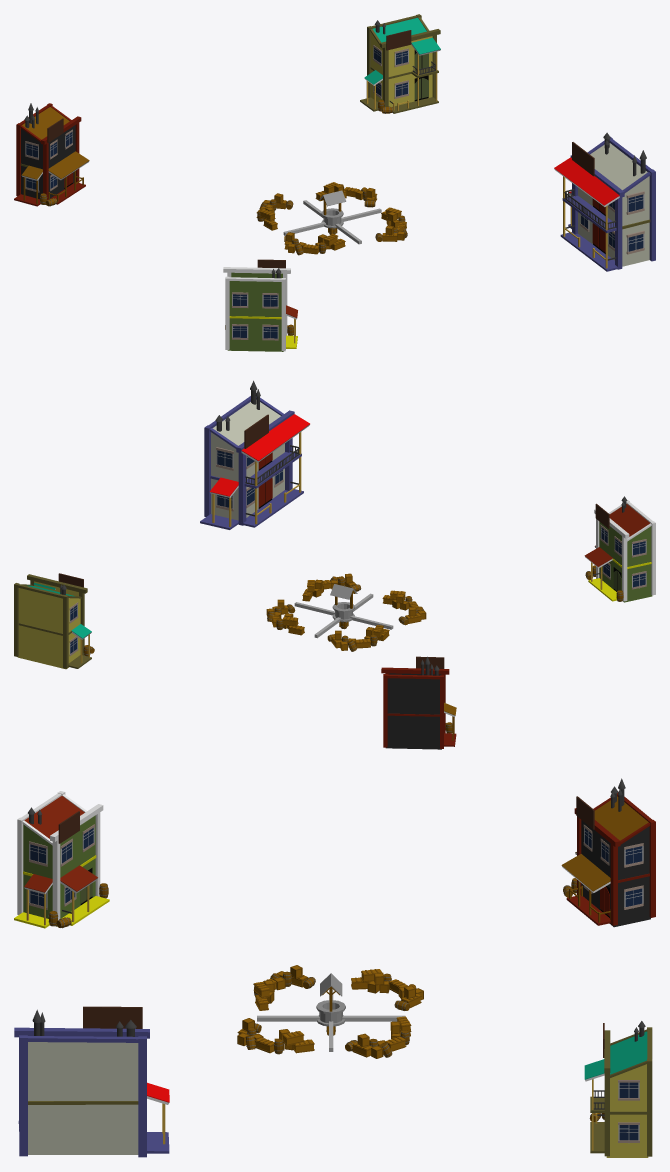
File: Buildings.fbx
The picture shows the model from 3 angles, top to bottom: view 1: azimuth 30°, elevation 25°; view 2: azimuth 150°, elevation 25°; view 3: azimuth 270°, elevation 25°; orthographic projection. The views are drawn at different scales.
Visible parts, largest first — view 1: polySurface365, polySurface508, polySurface222, polySurface633, pCylinder48, pCylinder51, polySurface208, pCylinder52, pCylinder50; view 2: polySurface365, polySurface508, polySurface222, polySurface633, pCylinder50, pCylinder48, pCylinder52, pCylinder51, polySurface208; view 3: polySurface365, polySurface633, polySurface222, polySurface508, pCylinder51, pCylinder50, pCylinder52, pCylinder48, polySurface208, pCube55.
Boxes of the visible parts, <box> form: polySurface365: <box>554,132,655,271</box>; polySurface508: <box>360,14,440,113</box>; polySurface222: <box>14,103,89,206</box>; polySurface633: <box>223,259,297,351</box>; pCylinder48: <box>284,232,345,255</box>; pCylinder51: <box>375,207,407,241</box>; polySurface208: <box>319,190,346,228</box>; pCylinder52: <box>315,182,377,207</box>; pCylinder50: <box>256,193,293,230</box>; polySurface365: <box>200,380,309,529</box>; polySurface508: <box>14,573,94,669</box>; polySurface222: <box>381,656,456,749</box>; polySurface633: <box>584,496,655,602</box>; pCylinder50: <box>327,625,389,651</box>; pCylinder48: <box>382,590,426,625</box>; pCylinder52: <box>266,599,304,635</box>; pCylinder51: <box>302,573,361,601</box>; polySurface208: <box>330,584,357,621</box>; polySurface365: <box>14,1006,169,1157</box>; polySurface633: <box>14,791,109,928</box>; polySurface222: <box>561,778,655,927</box>; polySurface508: <box>584,1021,652,1157</box>; pCylinder51: <box>237,1018,314,1054</box>; pCylinder50: <box>351,969,423,1010</box>; pCylinder52: <box>345,1016,411,1058</box>; pCylinder48: <box>253,965,315,1010</box>; polySurface208: <box>316,973,345,1026</box>; pCube55: <box>257,1015,404,1021</box>.
Bounding box in the file's own units: 120 × 31.47 × 118.
